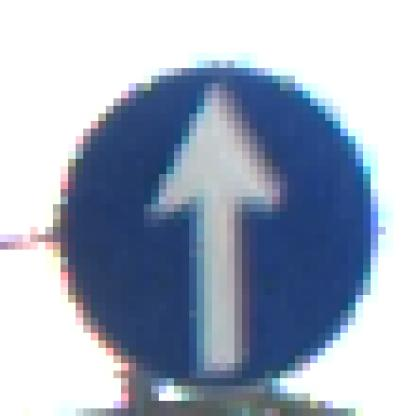AheadOnly: (47, 47, 380, 380)
